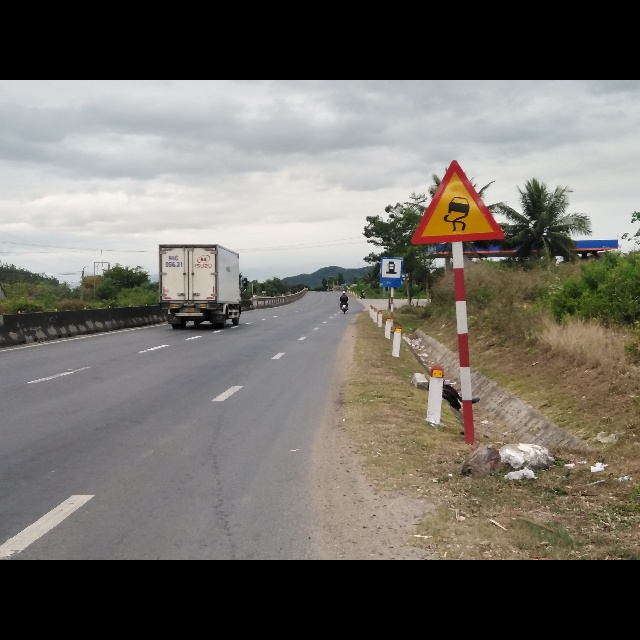Đường trơn trượt: (410, 159, 509, 247)
